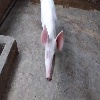heo: (39, 22, 66, 83)
